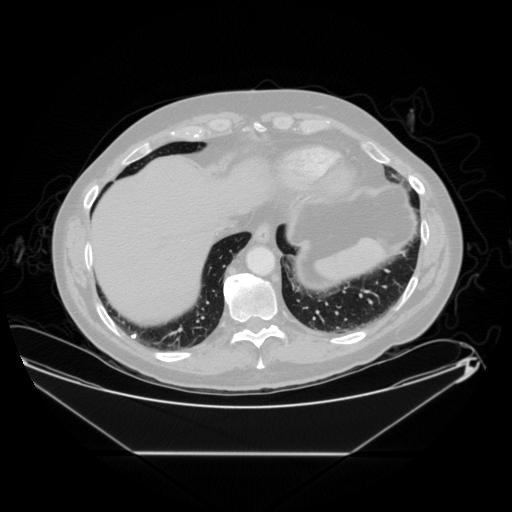nodule: (129, 332, 139, 342)
